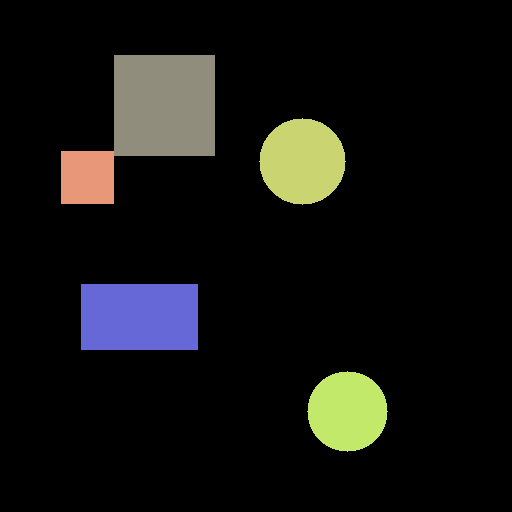circle: (61, 55, 214, 203), (259, 118, 345, 204), (307, 371, 387, 451)
rectangle: (81, 284, 197, 349)
